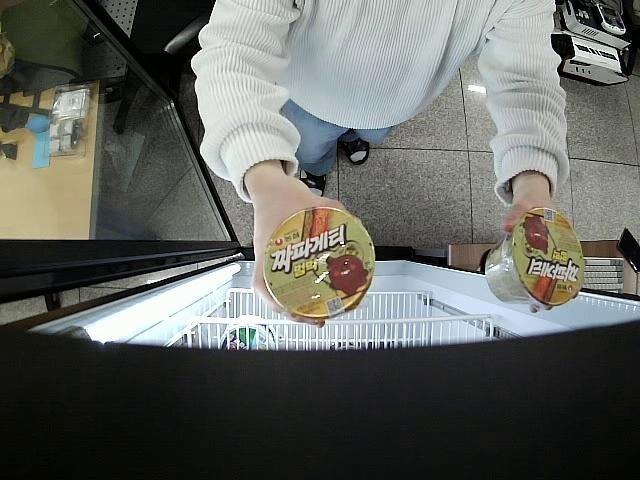04_chapagetti_S: (264, 206, 375, 320), (483, 211, 584, 304)
